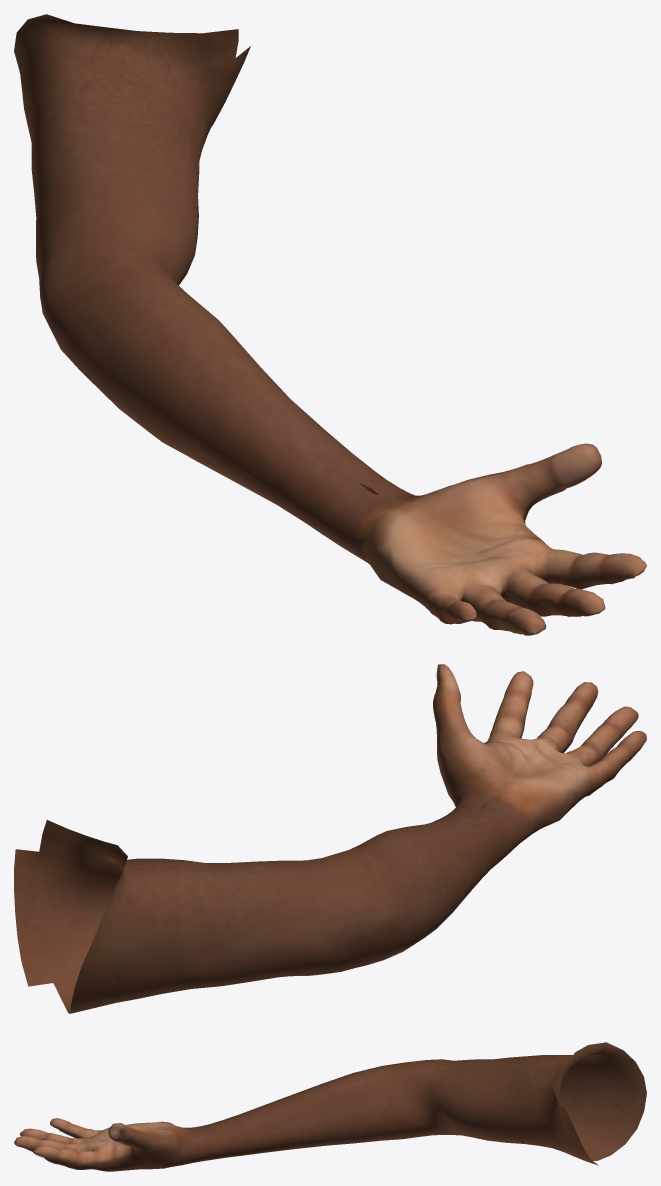
The model's file is hand1.fbx.
The picture shows the model from 3 angles, top to bottom: view 1: azimuth 30°, elevation 25°; view 2: azimuth 150°, elevation 25°; view 3: azimuth 270°, elevation 25°; orthographic projection. The views are drawn at different scales.
Visible parts, largest first — view 1: hand1; view 2: hand1; view 3: hand1.
Part boxes in pixels (x1,y1,x2,y2): hand1: (14, 14, 646, 635); hand1: (14, 664, 646, 1013); hand1: (14, 1042, 646, 1171).
Size of the model in its own units: 214 by 156 by 673.
